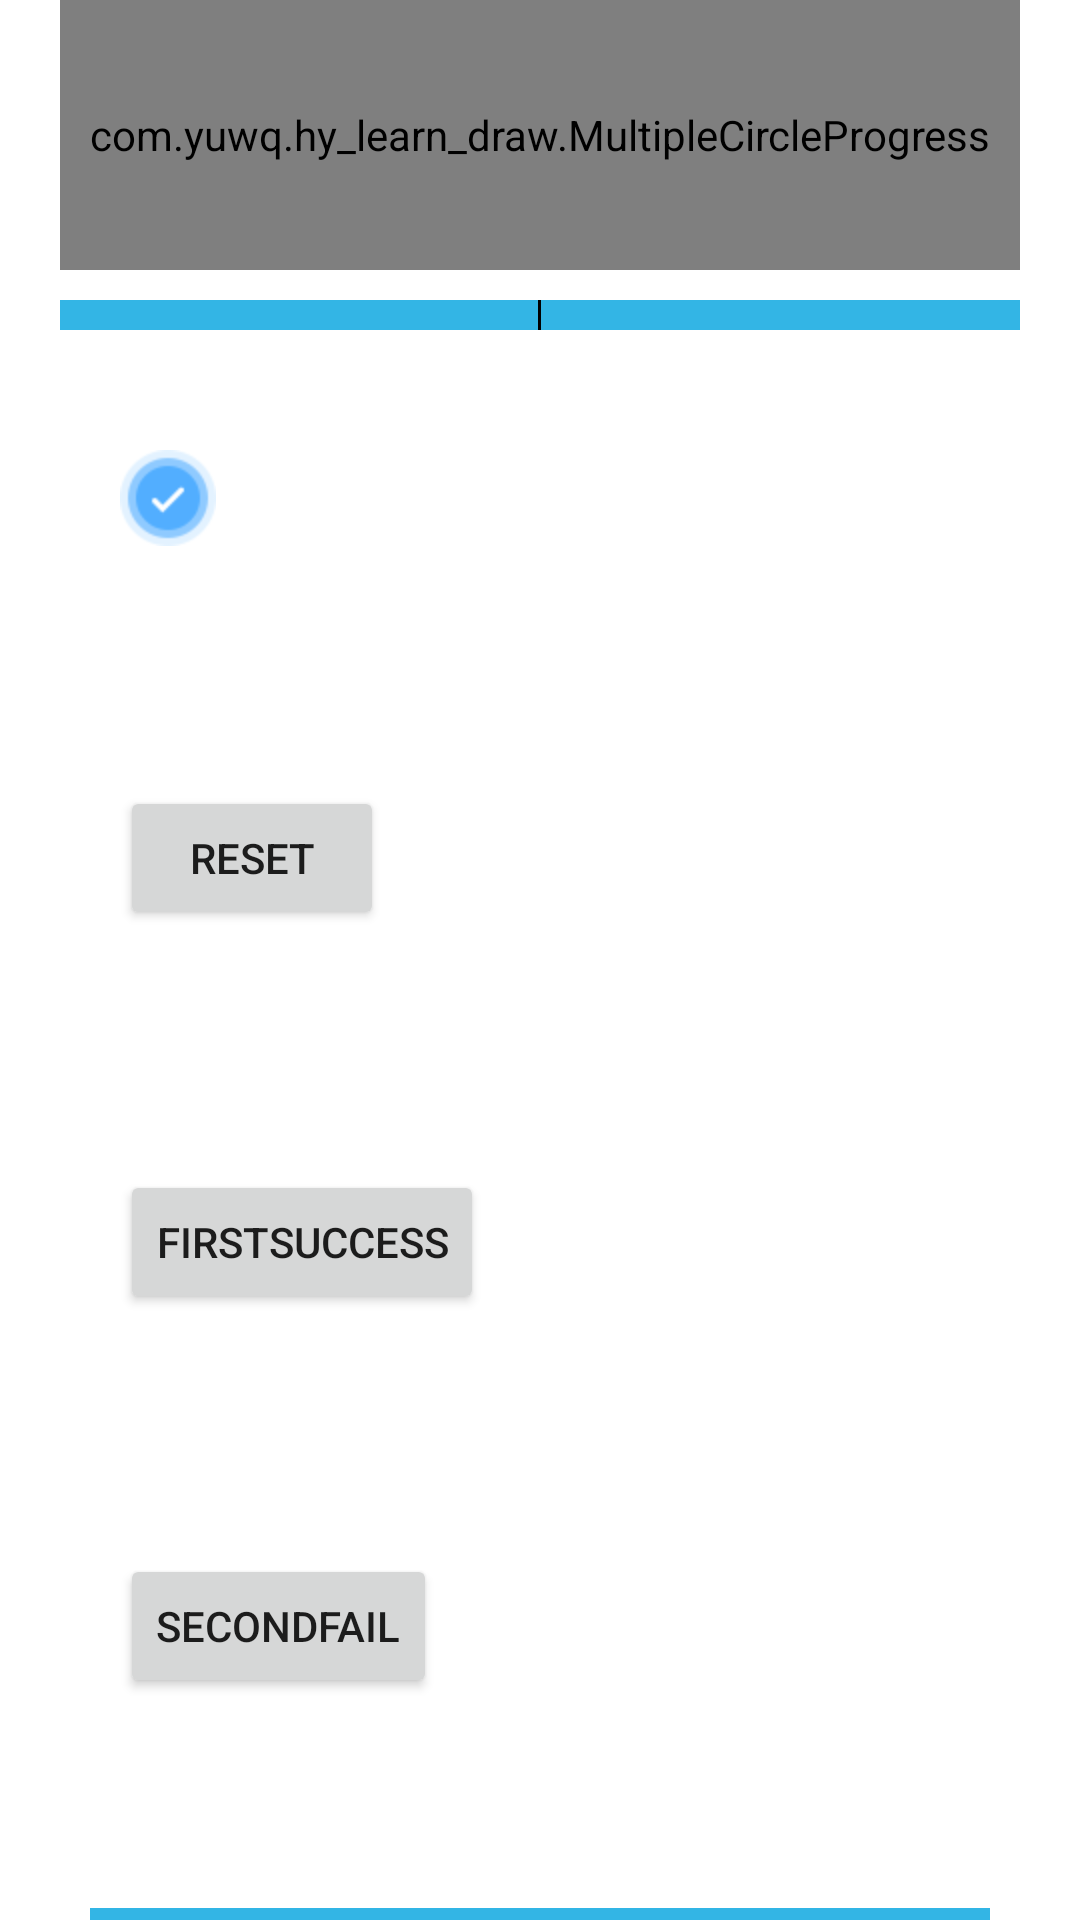

Where icons sit on this 1080 x 1920 app screen, as (x1, y1, x2, y2):
success: (120, 450, 216, 546)
